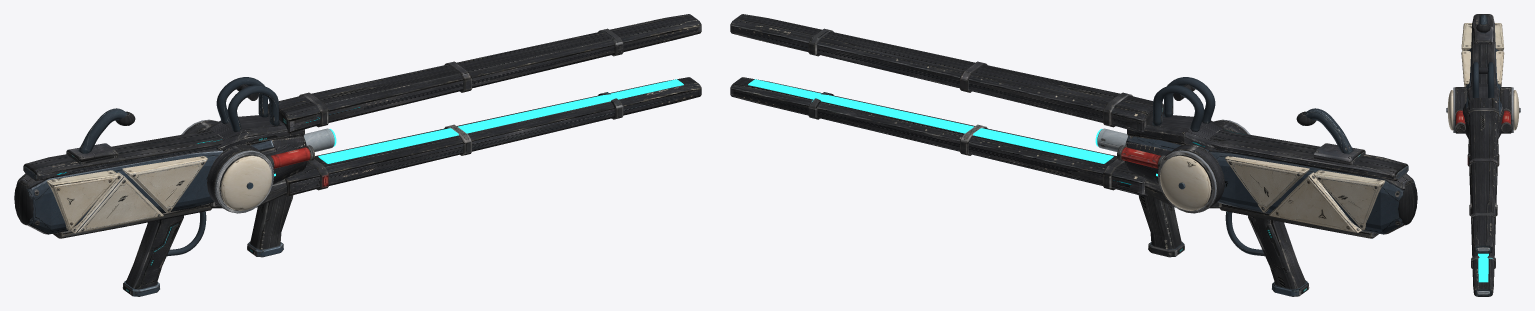
The model's file is railgun-splitline-v2.glb.
The picture shows the model from 3 angles, left to right: view 1: azimuth 30°, elevation 25°; view 2: azimuth 150°, elevation 25°; view 3: azimuth 270°, elevation 25°; orthographic projection. The views are drawn at different scales.
Visible parts, largest first — view 1: 04_twinrail_04_twinrail_rail_static, 04_twinrail_04_twinrail_graphite_static, 04_twinrail_04_twinrail_ivory_static, 04_twinrail_04_twinrail_mechanism_static, 04_twinrail_04_twinrail_rubber_static, 04_twinrail_cyan_static, 04_twinrail_04_twinrail_steel_static, 04_twinrail_04_twinrail_redpanel_static; view 2: 04_twinrail_04_twinrail_rail_static, 04_twinrail_04_twinrail_graphite_static, 04_twinrail_04_twinrail_ivory_static, 04_twinrail_04_twinrail_mechanism_static, 04_twinrail_04_twinrail_rubber_static, 04_twinrail_cyan_static, 04_twinrail_04_twinrail_steel_static, 04_twinrail_04_twinrail_redpanel_static; view 3: 04_twinrail_04_twinrail_rail_static, 04_twinrail_04_twinrail_graphite_static, 04_twinrail_04_twinrail_mechanism_static, 04_twinrail_04_twinrail_ivory_static, 04_twinrail_04_twinrail_steel_static, 04_twinrail_cyan_static, 04_twinrail_04_twinrail_redpanel_static, 04_twinrail_04_twinrail_rubber_static.
Part boxes in pixels (left/top/right/bottom): 04_twinrail_04_twinrail_rail_static: left=268, top=14, right=701, bottom=196; 04_twinrail_04_twinrail_graphite_static: left=16, top=77, right=307, bottom=296; 04_twinrail_04_twinrail_ivory_static: left=47, top=155, right=271, bottom=233; 04_twinrail_04_twinrail_mechanism_static: left=52, top=28, right=623, bottom=238; 04_twinrail_04_twinrail_rubber_static: left=14, top=84, right=293, bottom=289; 04_twinrail_cyan_static: left=274, top=79, right=683, bottom=176; 04_twinrail_04_twinrail_steel_static: left=181, top=119, right=334, bottom=213; 04_twinrail_04_twinrail_redpanel_static: left=271, top=147, right=310, bottom=168; 04_twinrail_04_twinrail_rail_static: left=730, top=14, right=1163, bottom=196; 04_twinrail_04_twinrail_graphite_static: left=1124, top=77, right=1415, bottom=296; 04_twinrail_04_twinrail_ivory_static: left=1160, top=155, right=1384, bottom=232; 04_twinrail_04_twinrail_mechanism_static: left=808, top=28, right=1379, bottom=238; 04_twinrail_04_twinrail_rubber_static: left=1138, top=84, right=1417, bottom=289; 04_twinrail_cyan_static: left=748, top=79, right=1157, bottom=176; 04_twinrail_04_twinrail_steel_static: left=1097, top=119, right=1250, bottom=213; 04_twinrail_04_twinrail_redpanel_static: left=1121, top=147, right=1160, bottom=168; 04_twinrail_04_twinrail_rail_static: left=1468, top=98, right=1498, bottom=296; 04_twinrail_04_twinrail_graphite_static: left=1446, top=14, right=1520, bottom=140; 04_twinrail_04_twinrail_mechanism_static: left=1455, top=26, right=1511, bottom=268; 04_twinrail_04_twinrail_ivory_static: left=1447, top=23, right=1519, bottom=130; 04_twinrail_04_twinrail_steel_static: left=1453, top=87, right=1513, bottom=294; 04_twinrail_cyan_static: left=1478, top=253, right=1488, bottom=282; 04_twinrail_04_twinrail_redpanel_static: left=1456, top=110, right=1510, bottom=124; 04_twinrail_04_twinrail_rubber_static: left=1476, top=24, right=1490, bottom=73.
Bounding box in the file's own units: 5.82 × 1.53 × 0.804.
8 materials, 7 textured.
